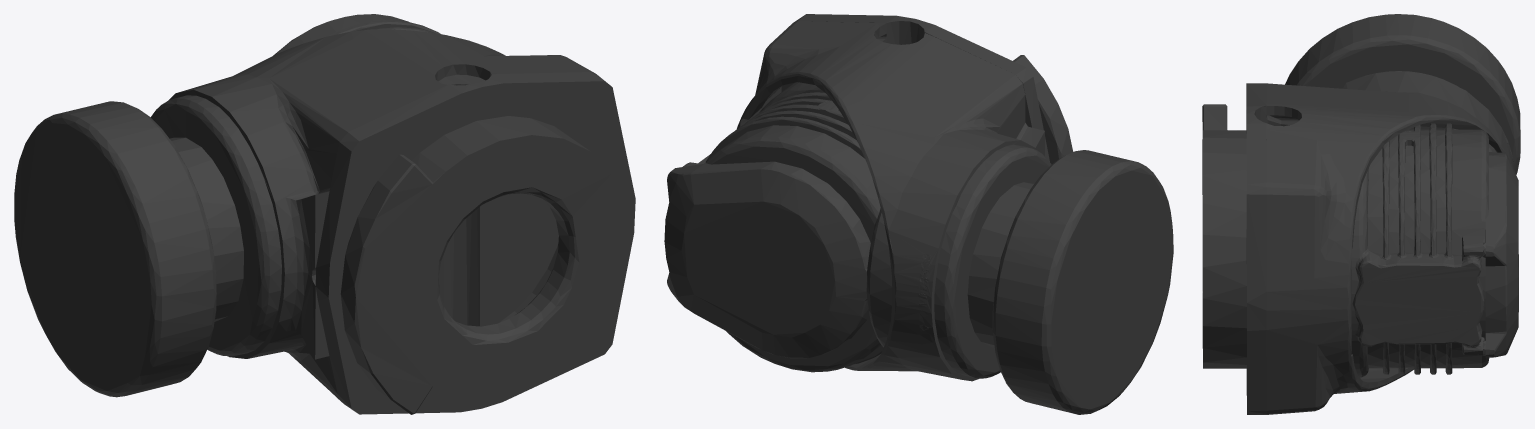
The model's file is front_right_hip.dae.
The picture shows the model from 3 angles, left to right: view 1: azimuth 30°, elevation 25°; view 2: azimuth 150°, elevation 25°; view 3: azimuth 270°, elevation 25°; orthographic projection. The views are drawn at different scales.
Parts seen in each view (by area): view 1: front_right_hip; view 2: front_right_hip; view 3: front_right_hip.
Part boxes in pixels (bbox=[...]): front_right_hip: bbox=[14, 14, 635, 414]; front_right_hip: bbox=[664, 14, 1173, 414]; front_right_hip: bbox=[1202, 14, 1520, 414].
Size of the model in its own units: 0.1417 by 0.1 by 0.0941.
